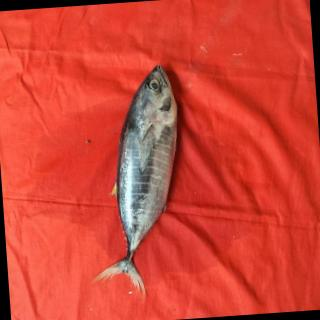Ikan: (71, 49, 207, 306)
